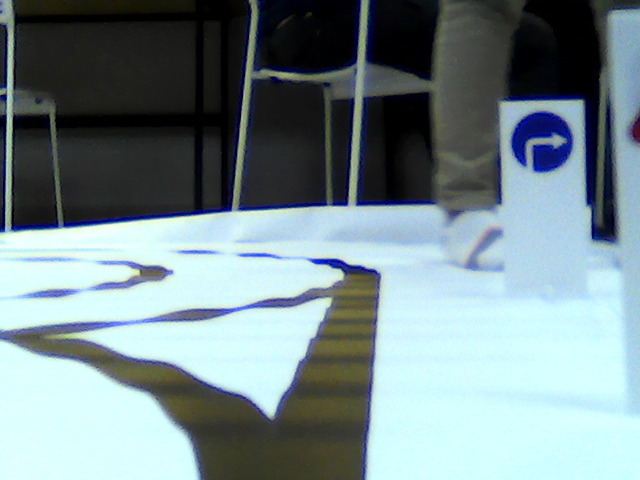Right: (511, 110, 575, 172)
